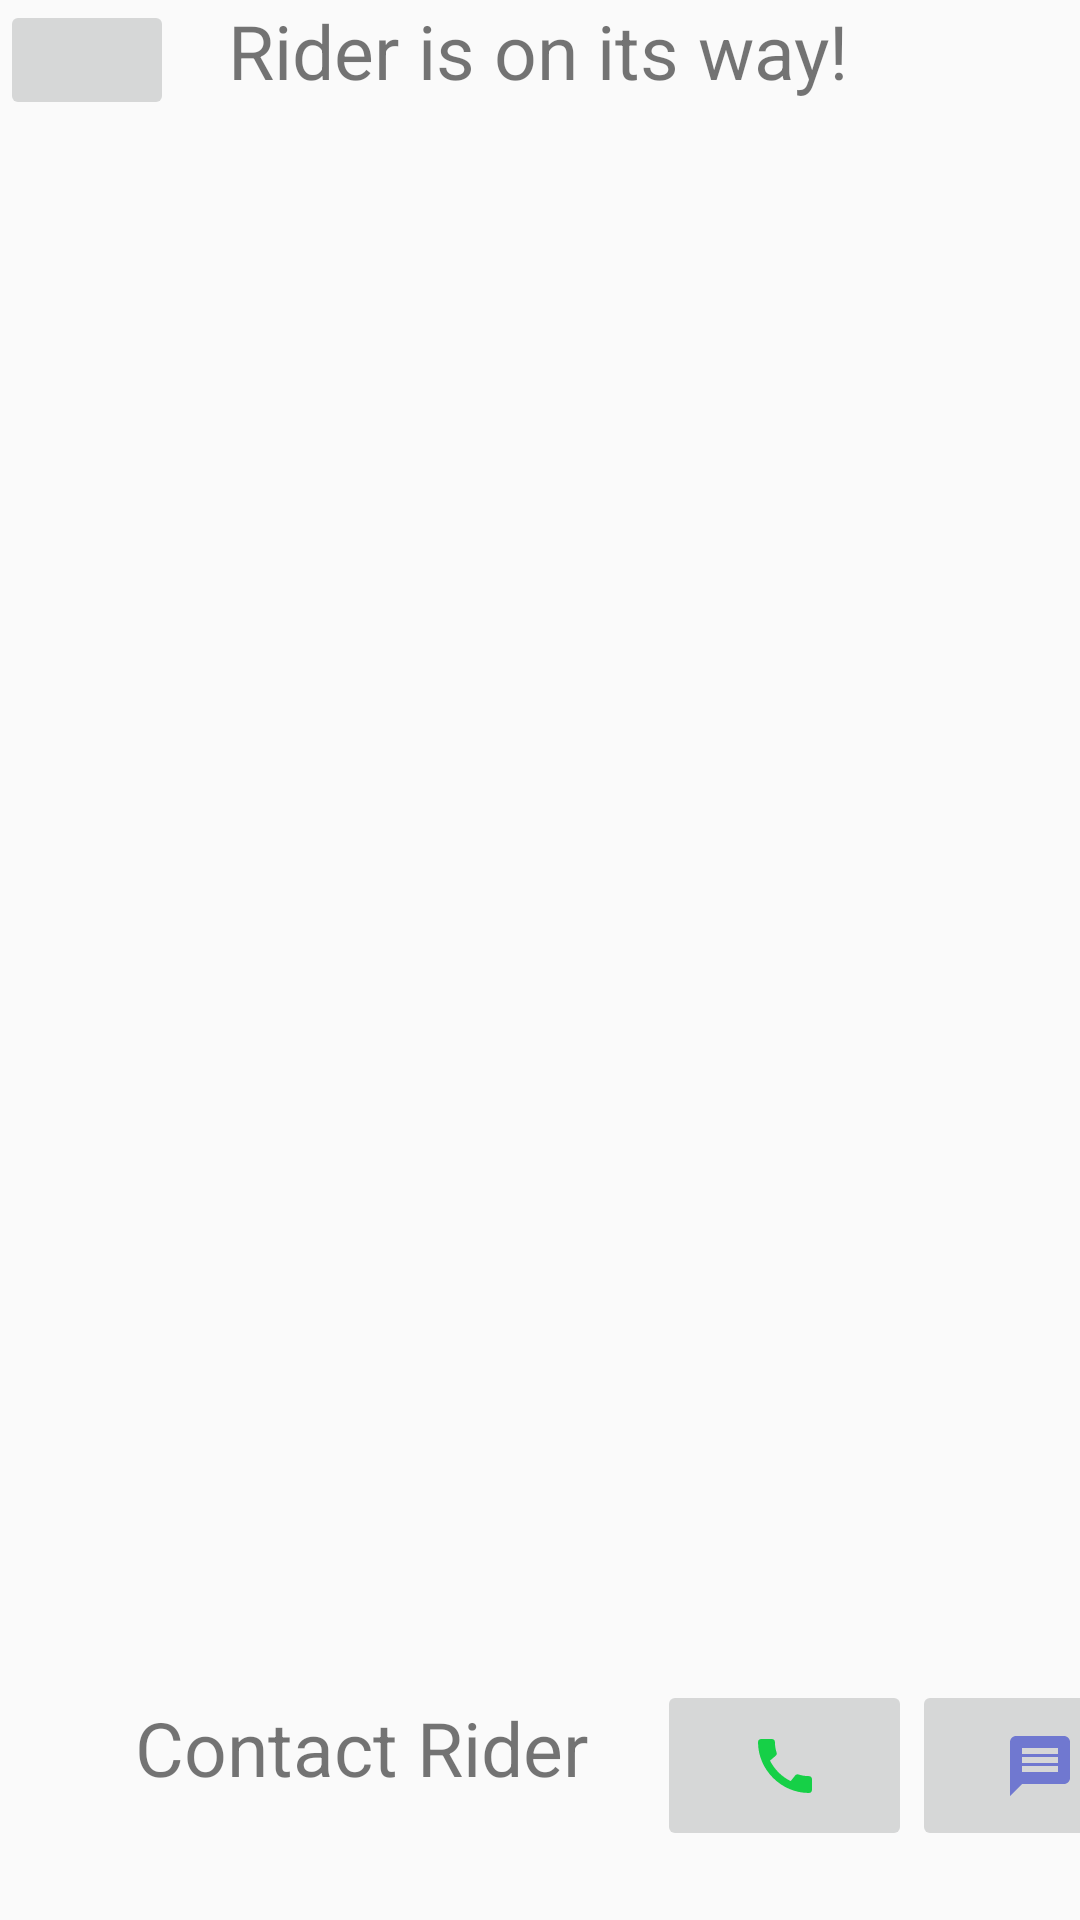

Icons on this 1080×1920 Android screen, each with its box as (x1, y1, x2, y2):
call: (669, 1698, 900, 1833)
